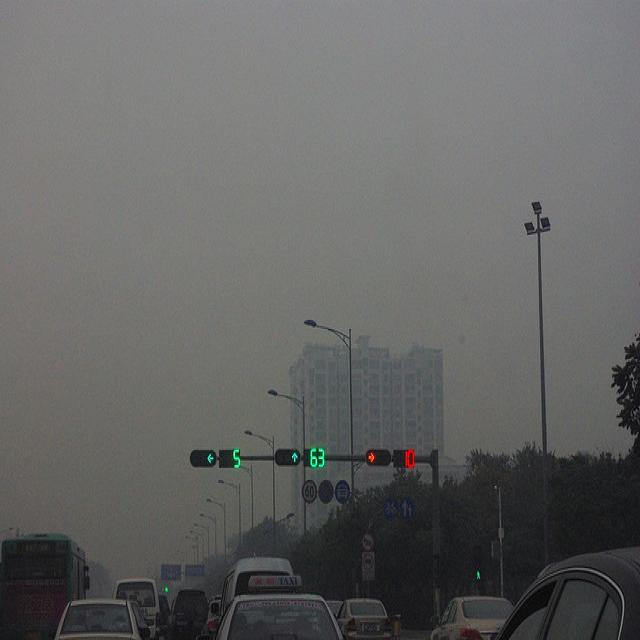Vehicle: (502, 546, 640, 634), (1, 534, 90, 640), (216, 594, 339, 632), (430, 596, 513, 640), (114, 577, 160, 640), (58, 601, 138, 633), (335, 599, 390, 640), (172, 588, 208, 632), (326, 598, 343, 618)
